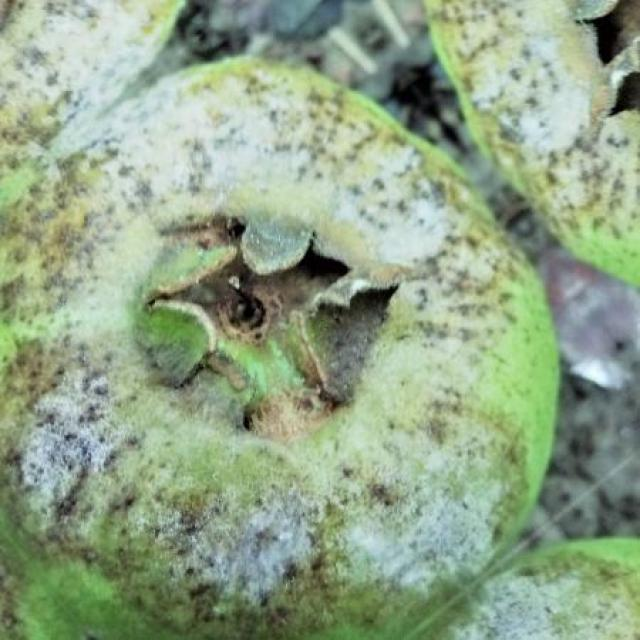Phytopthora: (1, 0, 640, 640), (429, 0, 640, 278)
